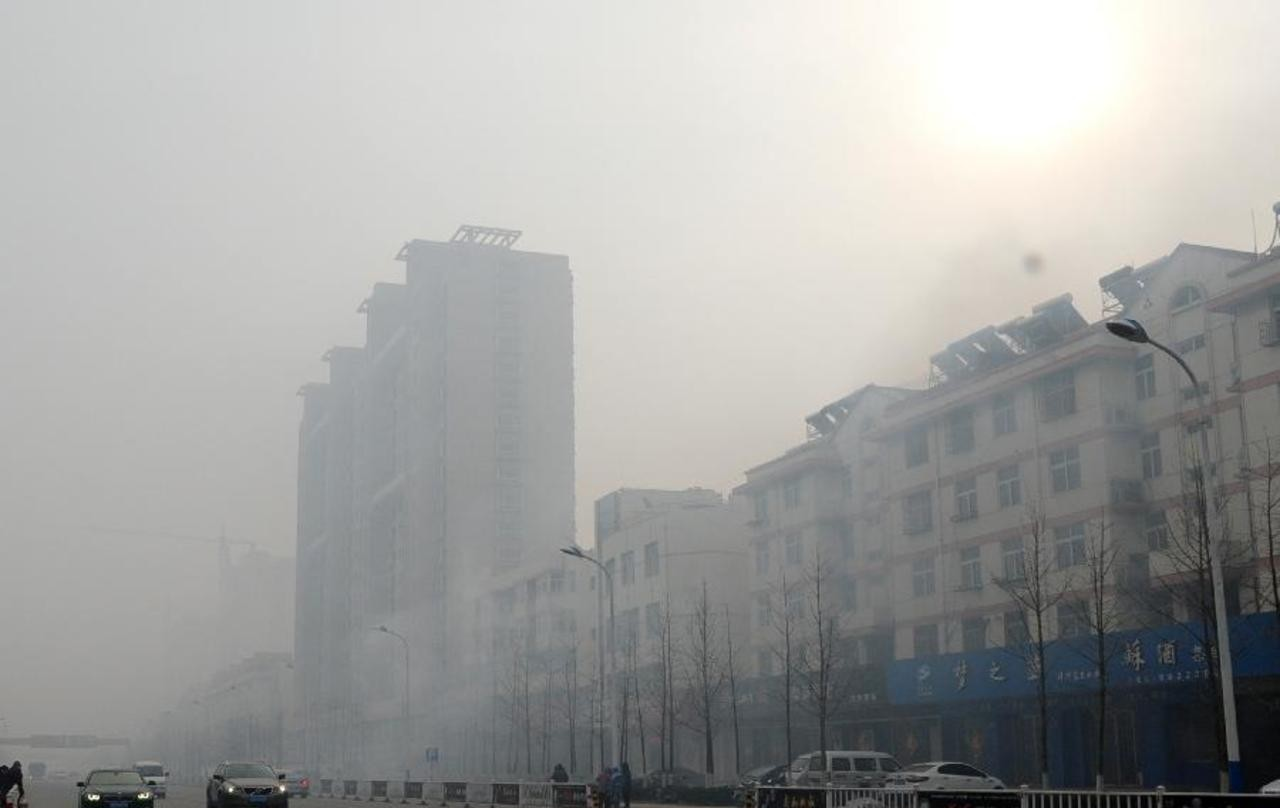car: (889, 751, 1010, 791), (204, 761, 291, 807), (76, 768, 158, 807), (814, 753, 901, 788), (276, 764, 312, 793), (785, 748, 813, 785), (133, 761, 166, 791)
